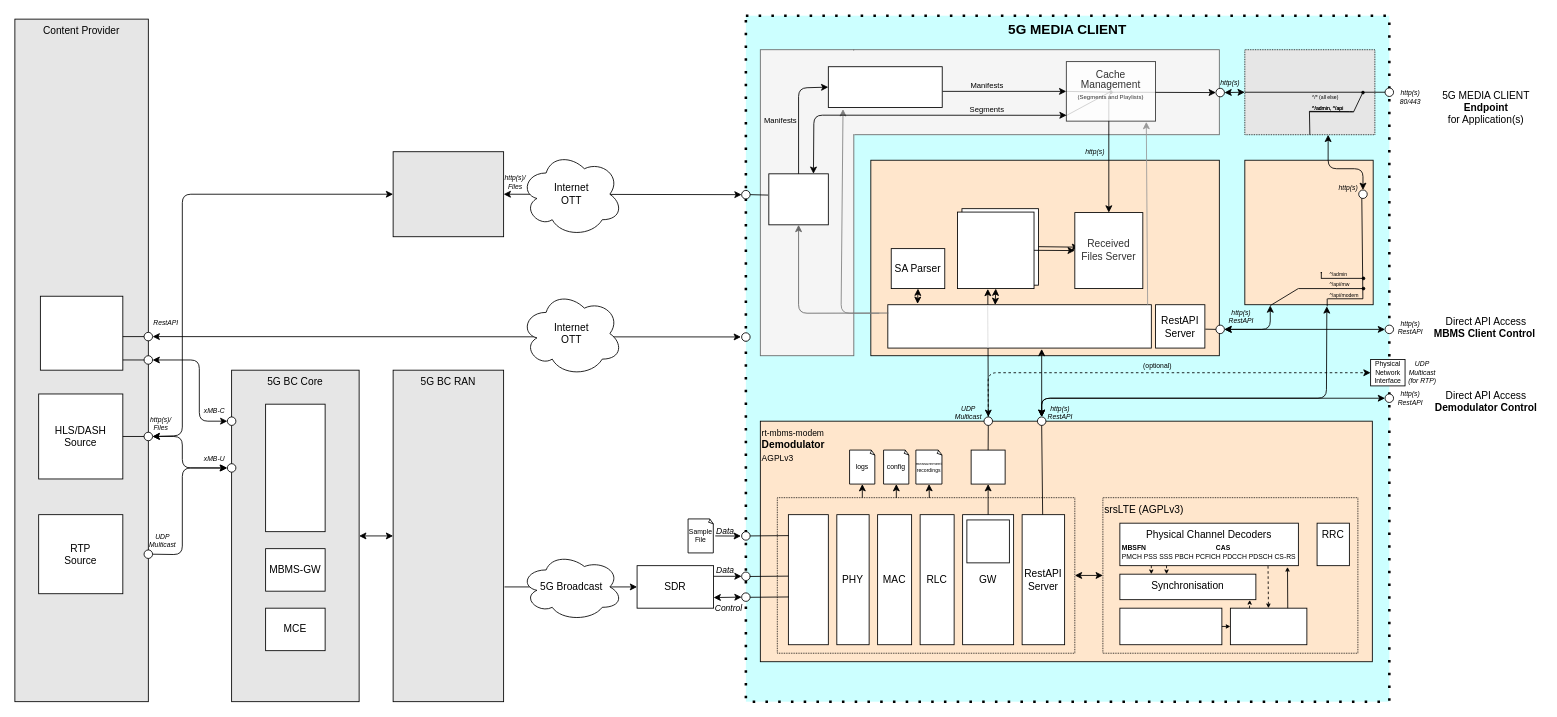
This 1557x717 diagram has some shape labels left out. The box of each missing label's shape, as (x1, y1, x2, y2) in pixels:
"Seamless Switching": (759, 49, 854, 356)
BMSC: (265, 403, 325, 532)
CDN Client: (768, 173, 828, 225)
CDN Endpoint: (392, 151, 504, 237)
Channel Estimation: (1230, 607, 1307, 645)
Control Logic: (887, 304, 1151, 348)
Control System: (40, 295, 123, 370)
FLUTE decoder uses rt-libflute: (957, 211, 1034, 289)
MCast Stream Inspection T arget Address, TMGI,...: (966, 519, 1009, 563)
Network tun interface: (970, 449, 1005, 484)
OFDM Demodulation: (1119, 607, 1222, 645)
Playlist Management (Synchronization): (827, 66, 942, 108)
Reverse Proxy nginx: (1244, 49, 1375, 135)
rt-mbms-mw MBMS Client 5G-MAG Public License v1.0: (870, 159, 1219, 356)
rt-wui Webinterface 5G-MAG Public License v1.0 node.js App: (1244, 159, 1373, 305)
Soapy Reader: (788, 514, 828, 645)
